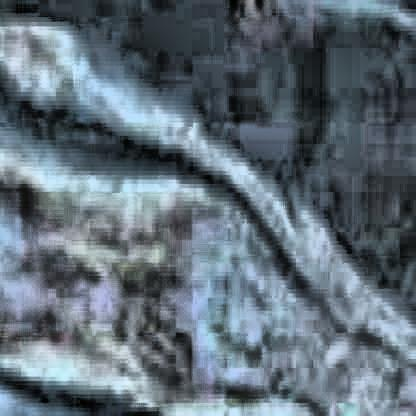sheen: (0, 17, 412, 416)
